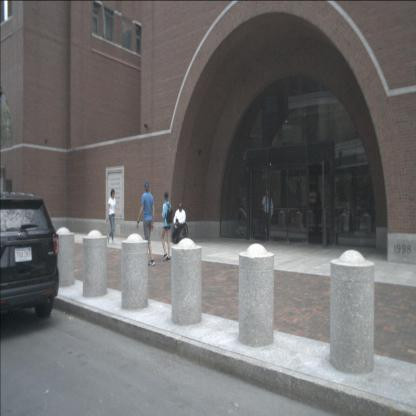human-pedestrian-adult: (137, 181, 155, 267), (161, 190, 173, 262), (106, 189, 118, 245), (262, 187, 273, 240)
vehicle-car: (0, 192, 60, 329)
